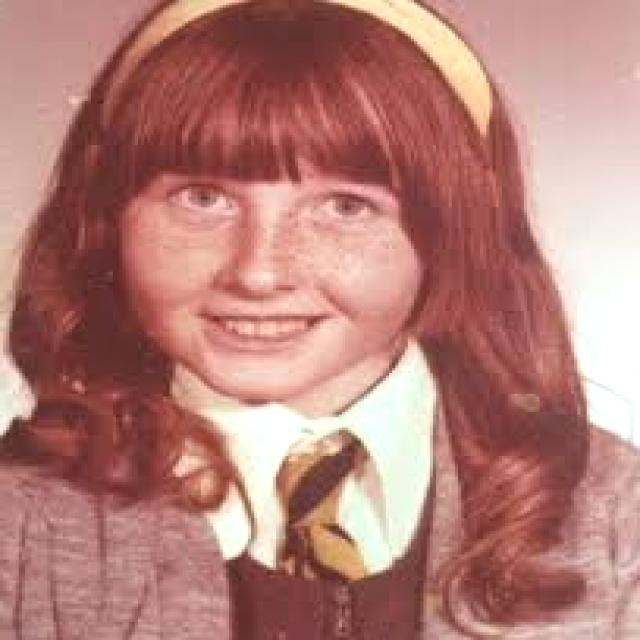normal_face: (101, 85, 452, 398)
